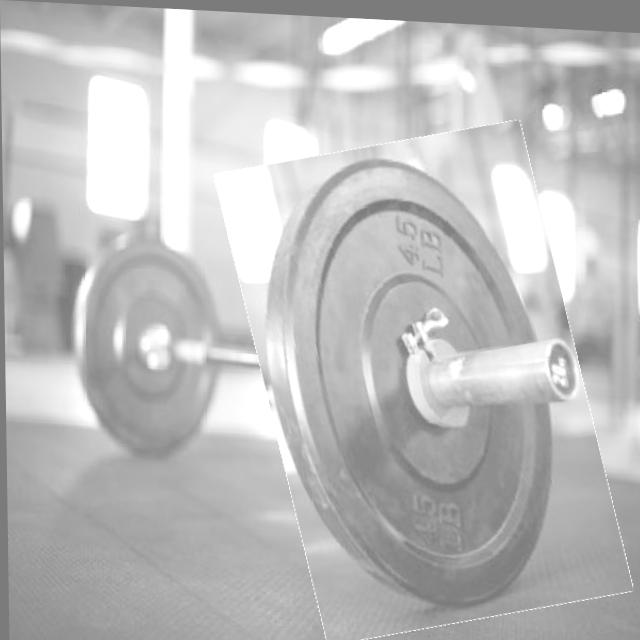barbell: (238, 118, 609, 640)
